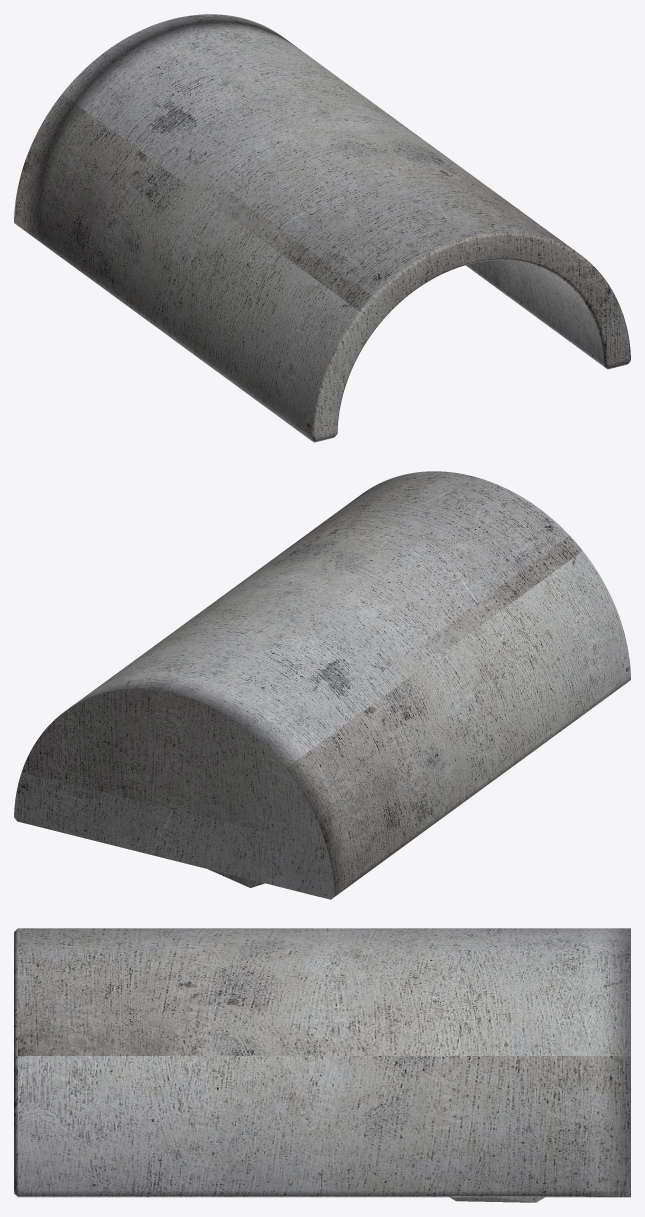
File: Tunnel.fbx
3 renders of one model, top to bottom at view 1: azimuth 30°, elevation 25°; view 2: azimuth 150°, elevation 25°; view 3: azimuth 270°, elevation 25°, orthographic. The views are drawn at different scales.
Parts seen in each view (by area): view 1: Tunnel; view 2: Tunnel; view 3: Tunnel.
Boxes of the visible parts, bbox=[...] form: Tunnel: bbox=[14, 14, 630, 442]; Tunnel: bbox=[14, 471, 630, 899]; Tunnel: bbox=[14, 928, 630, 1202].
Bounding box in the file's own units: 12.02 × 7.25 × 19.42.
Materials: 1 (1 with a texture image).
